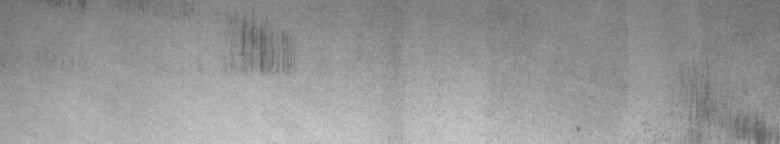ka: (234, 22, 284, 72)
